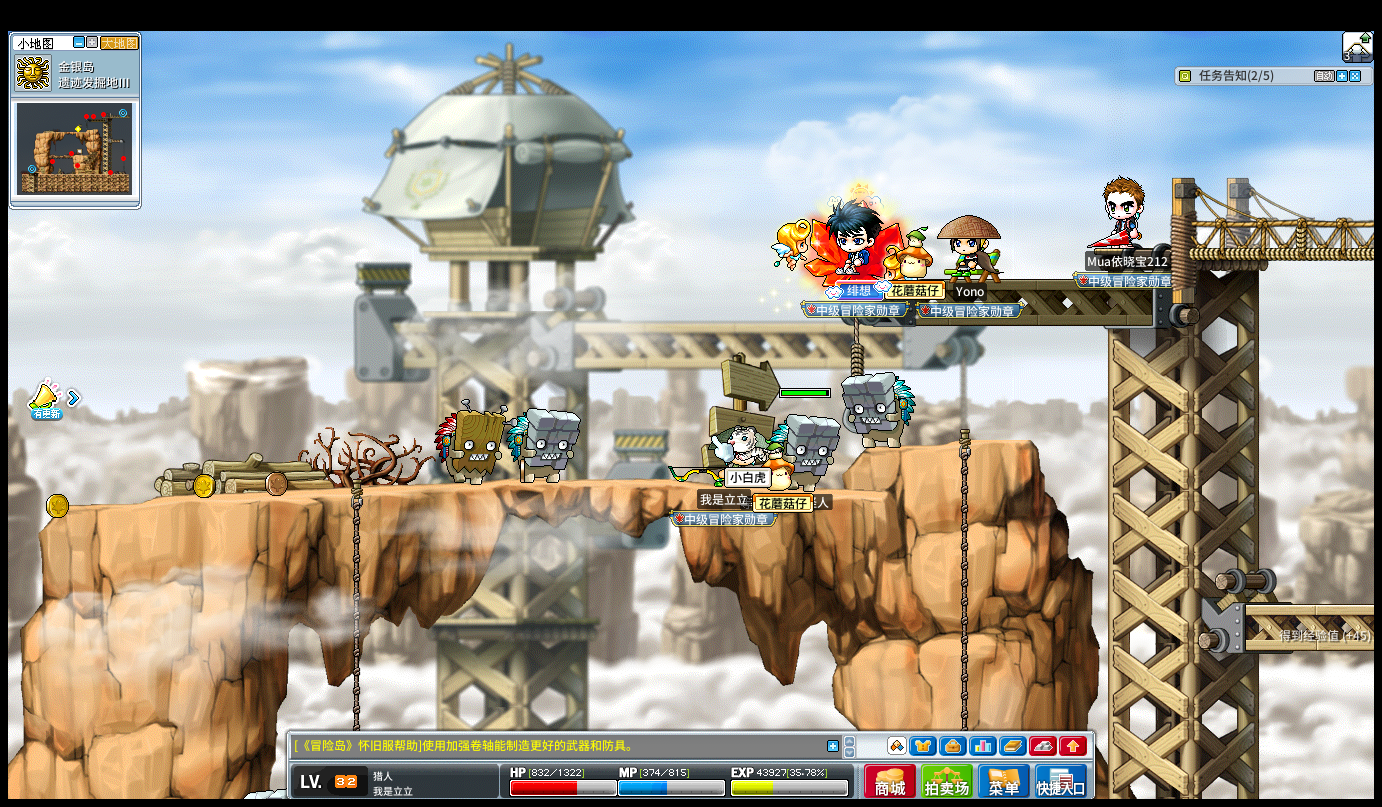floor: (43, 472, 836, 509), (45, 476, 967, 500), (871, 435, 1035, 451), (864, 439, 1037, 453), (1243, 600, 1374, 618)
monster: (432, 402, 509, 485), (507, 407, 582, 484), (843, 371, 916, 449), (774, 413, 839, 487)
rope: (348, 470, 362, 807), (955, 427, 970, 721), (350, 474, 362, 711)
